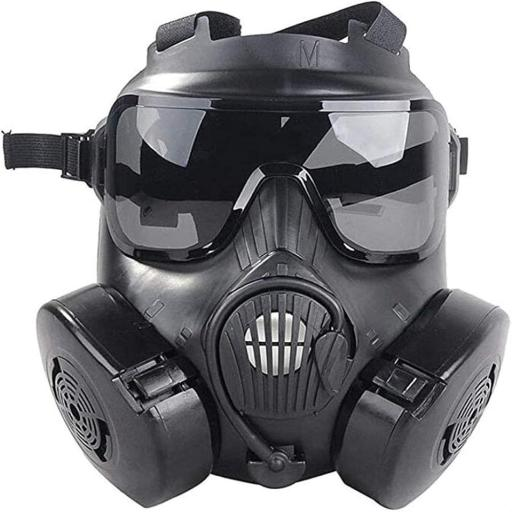mask: (30, 7, 512, 512)
